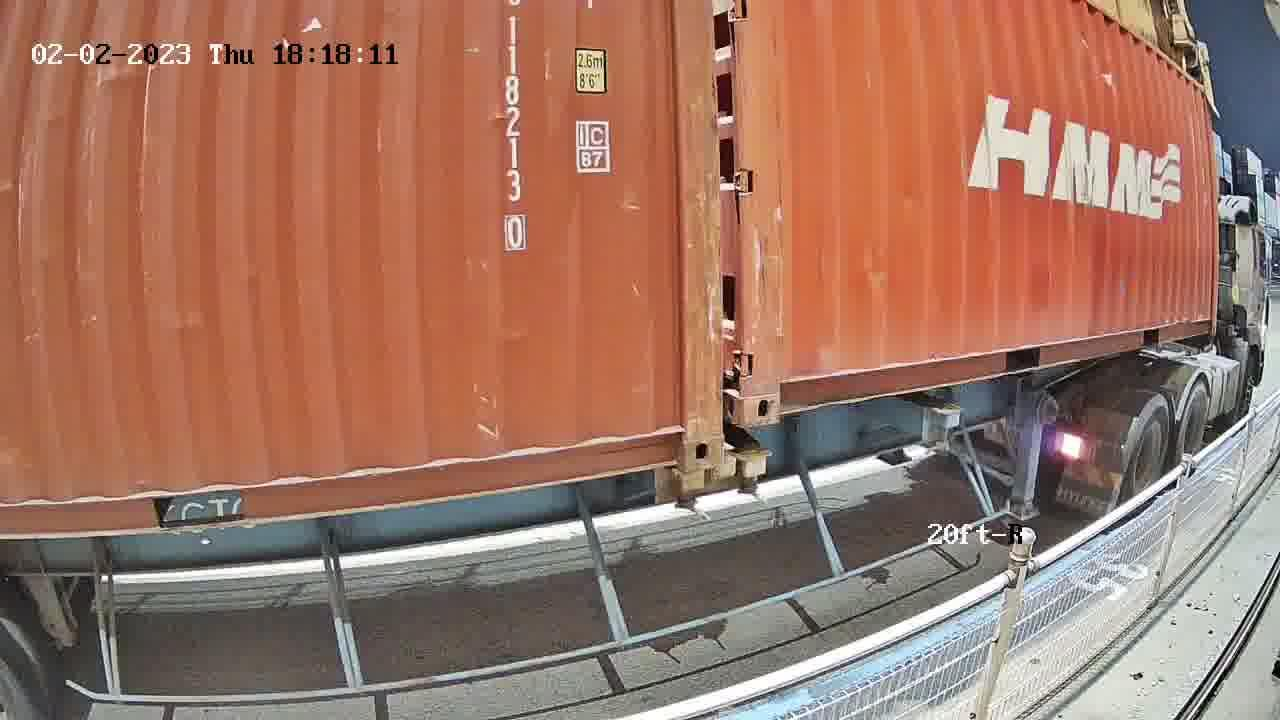Cone: (730, 445, 769, 496), (666, 468, 709, 511)
Hole_L: (745, 353, 810, 425)
Hole_R: (629, 389, 724, 471)
Tire: (1125, 416, 1166, 505), (1180, 383, 1210, 463)
